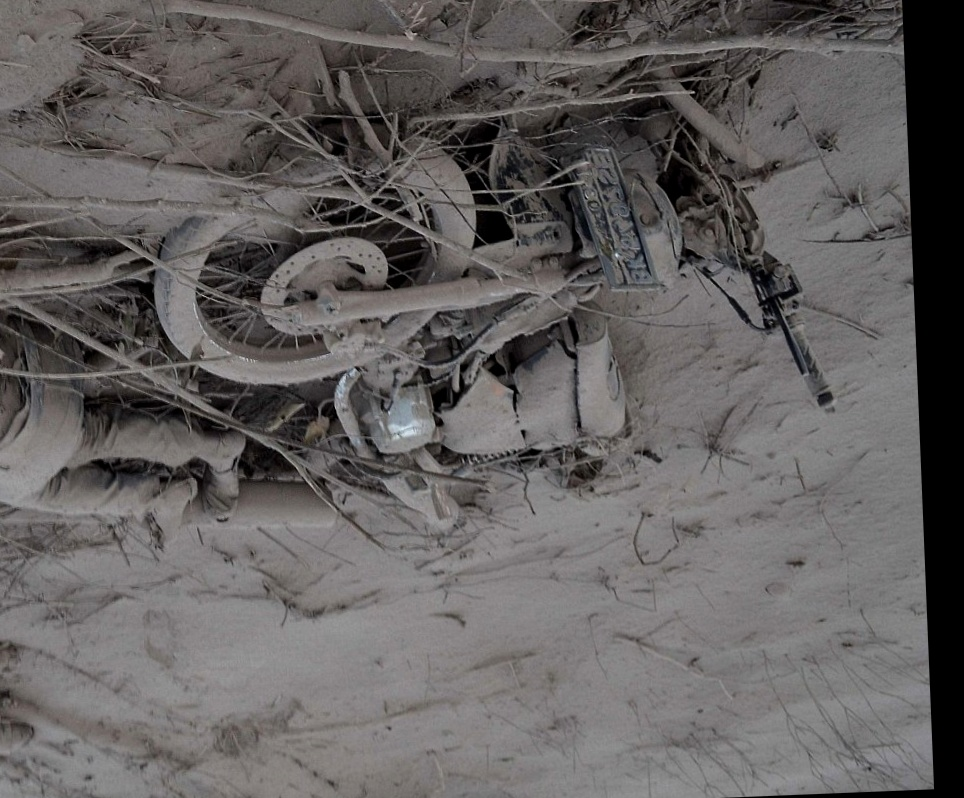Korban: (0, 298, 250, 565)
